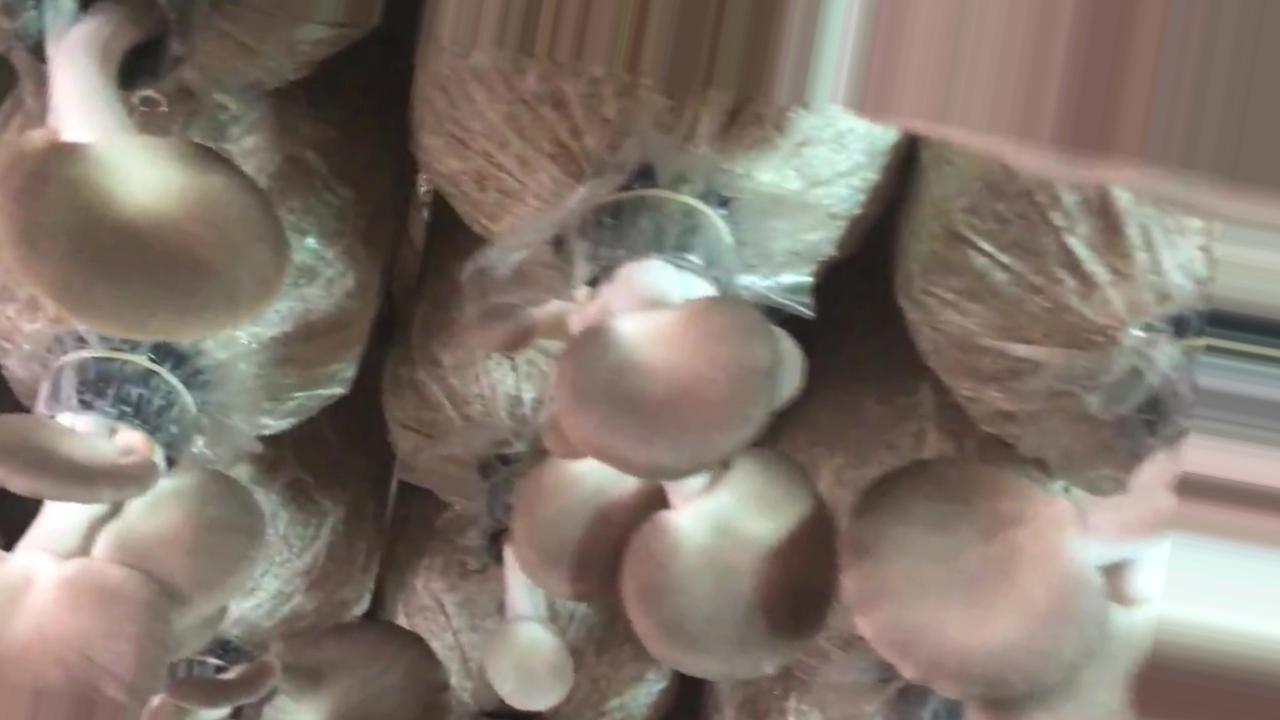nam: (516, 198, 836, 684), (1, 357, 274, 720), (1, 1, 288, 340), (846, 462, 1102, 700), (145, 627, 447, 720), (481, 458, 573, 713)
